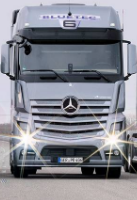truck: (1, 4, 136, 180)
